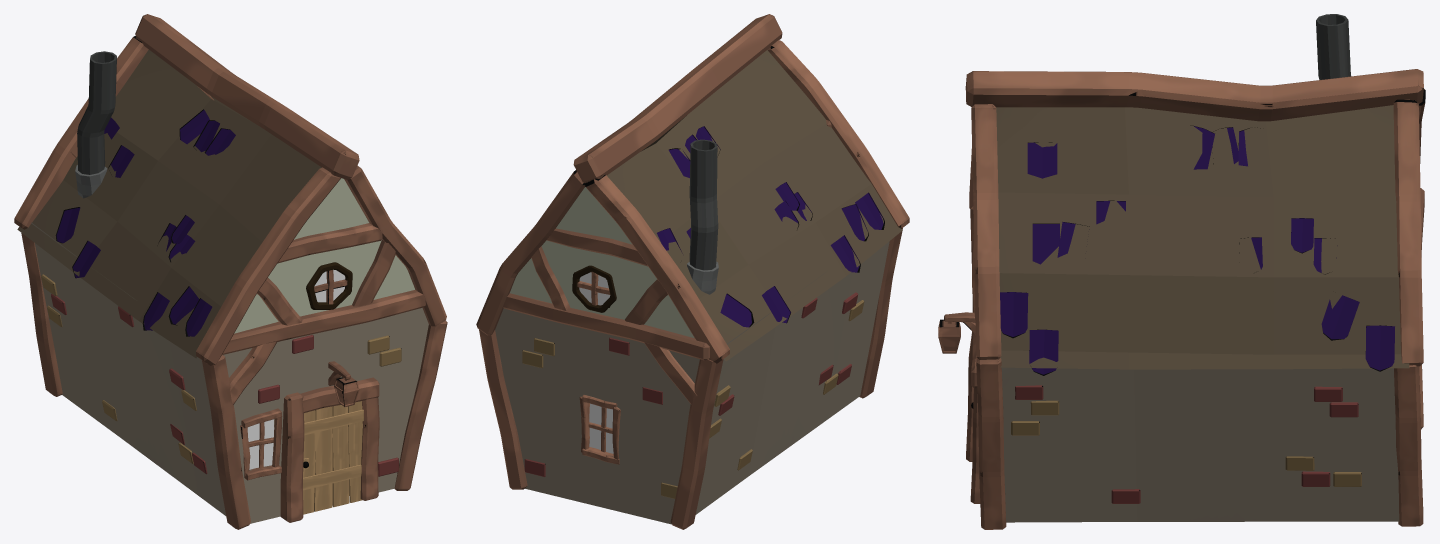
Rendered from cottage.fbx.
3 views of the same model, side by side, from view 1: azimuth 30°, elevation 25°; view 2: azimuth 150°, elevation 25°; view 3: azimuth 270°, elevation 25° (orthographic). The views are drawn at different scales.
Visible parts, largest first — view 1: Cube.054, Plane.010; view 2: Cube.054, Plane.011; view 3: Cube.054.
Part boxes in pixels (bbox=[...]): Cube.054: bbox=[14, 14, 447, 529]; Plane.010: bbox=[247, 419, 274, 469]; Cube.054: bbox=[476, 14, 909, 529]; Plane.011: bbox=[589, 403, 613, 453]; Cube.054: bbox=[938, 14, 1425, 529].
Bounding box in the file's own units: 287 × 387 × 404.
